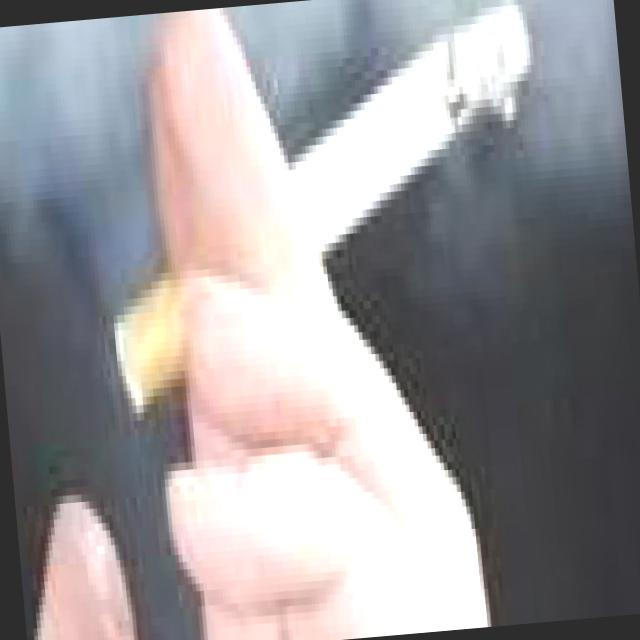cigarette: (58, 0, 594, 444)
